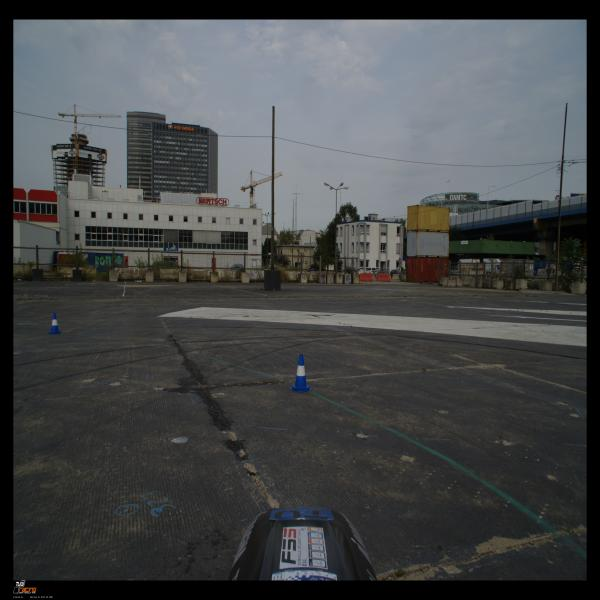blue_cone: (289, 354, 313, 393), (49, 313, 61, 334)
